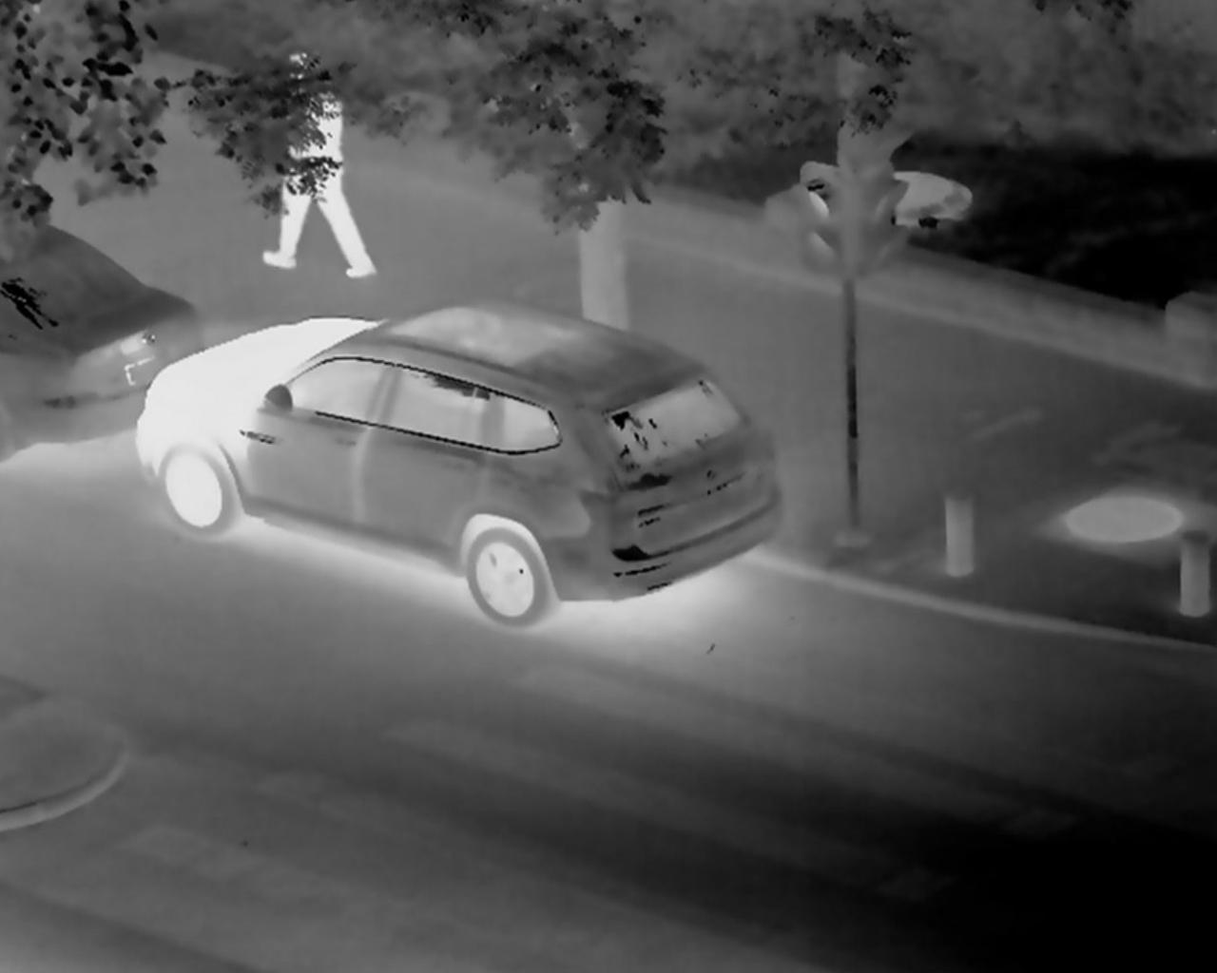person: (280, 49, 402, 304)
